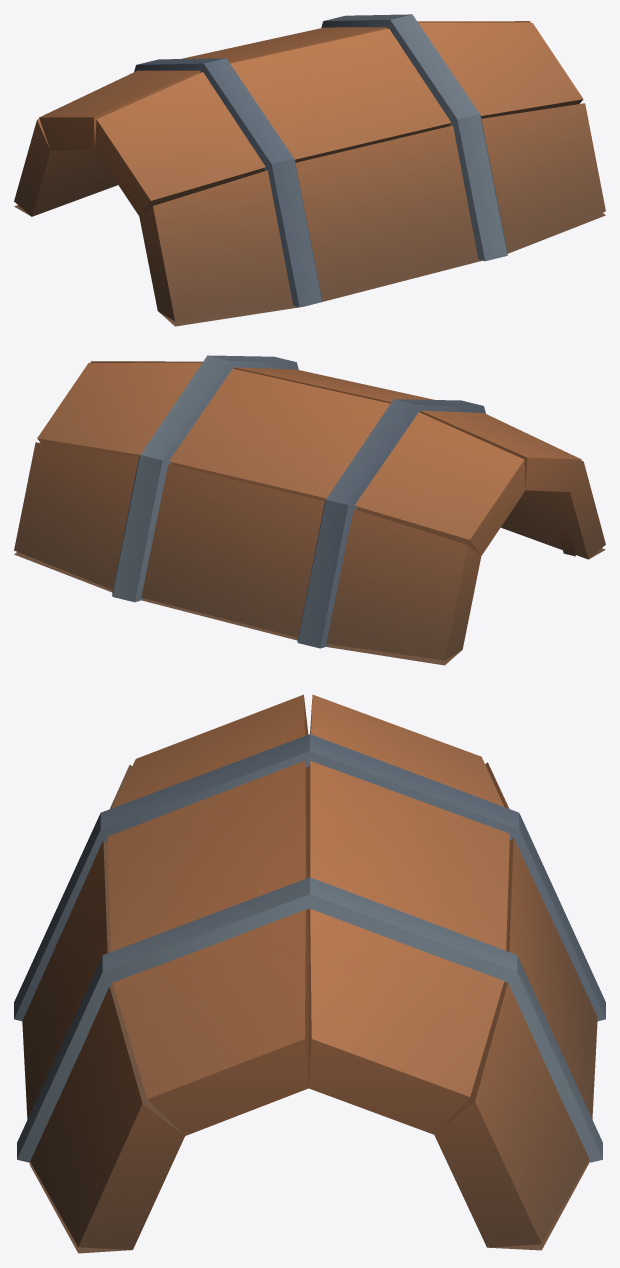
File: Разломанная бочка.fbx
3 renders of one model, top to bottom at view 1: azimuth 30°, elevation 25°; view 2: azimuth 150°, elevation 25°; view 3: azimuth 270°, elevation 25°, orthographic. The views are drawn at different scales.
Visible parts, largest first — view 1: Разломанная_бочка; view 2: Разломанная_бочка; view 3: Разломанная_бочка.
Boxes of the visible parts, bbox=[...] form: Разломанная_бочка: bbox=[14, 14, 605, 326]; Разломанная_бочка: bbox=[14, 355, 605, 665]; Разломанная_бочка: bbox=[14, 694, 605, 1253].
Bounding box in the file's own units: 35.86 × 13.92 × 27.29.
